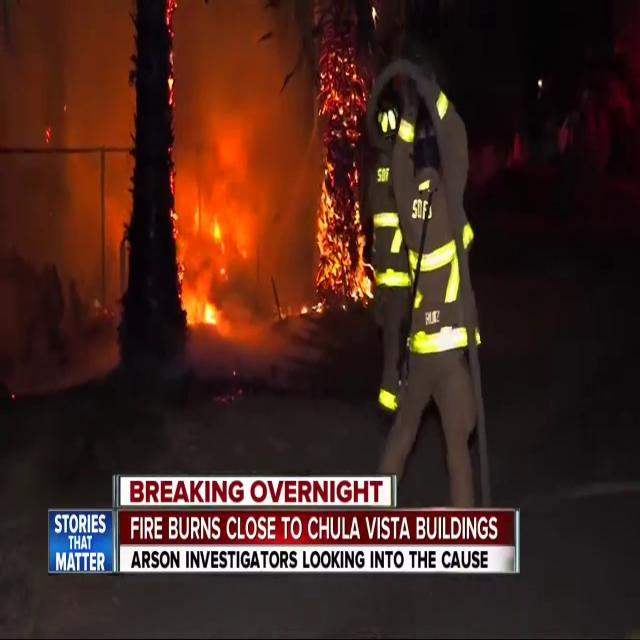Fire: (306, 45, 375, 308), (180, 185, 251, 332)
Smoke: (0, 0, 140, 344)
